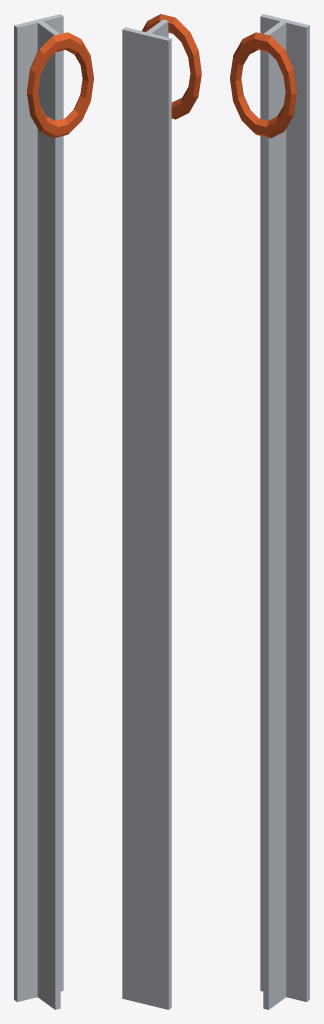
The model's file is picket.glb.
The picture shows the model from 3 angles, left to right: view 1: azimuth 30°, elevation 25°; view 2: azimuth 150°, elevation 25°; view 3: azimuth 330°, elevation 25°; orthographic projection.
Visible parts, largest first — view 1: alu0, alu1, krab2; view 2: alu0, krab2, alu1; view 3: alu0, alu1, krab2.
Boxes of the visible parts, <box> form: alu0: <box>14,14,63,1001</box>; alu1: <box>37,21,60,1009</box>; krab2: <box>27,32,93,138</box>; alu0: <box>122,27,171,1009</box>; krab2: <box>142,14,201,119</box>; alu1: <box>146,19,168,37</box>; alu0: <box>260,14,309,1001</box>; alu1: <box>263,21,286,1009</box>; krab2: <box>230,32,296,138</box>.
Size of the model in its own units: 0.072 by 1 by 0.0482.
